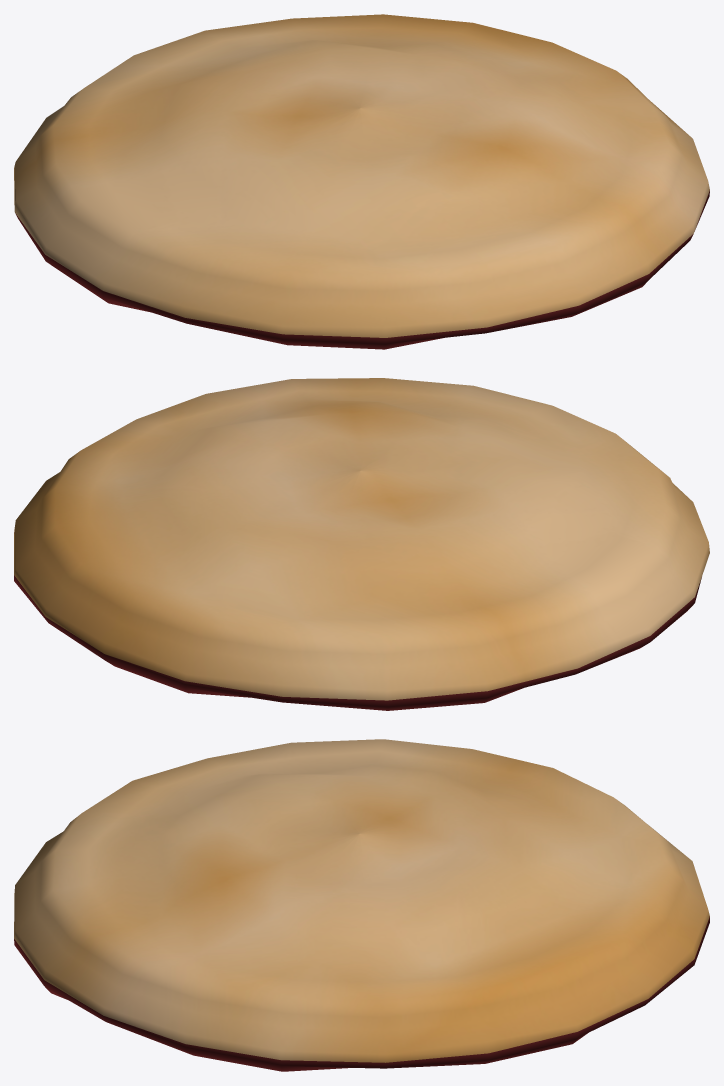
File: Pie.glb
3 renders of one model, top to bottom at view 1: azimuth 30°, elevation 25°; view 2: azimuth 150°, elevation 25°; view 3: azimuth 270°, elevation 25°, orthographic.
Parts seen in each view (by area): view 1: PieLowPoly; view 2: PieLowPoly; view 3: PieLowPoly.
Boxes of the visible parts, <box> form: PieLowPoly: <box>14,14,709,349</box>; PieLowPoly: <box>14,378,709,710</box>; PieLowPoly: <box>14,739,709,1071</box>.
Size of what is drawn, in the model's own units: 2.1 by 0.3853 by 2.1.
Materials: 1 (1 with a texture image).
